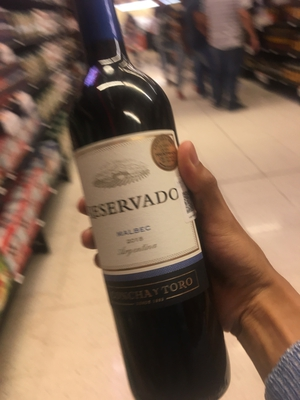reservado malbec: (61, 14, 222, 400)
